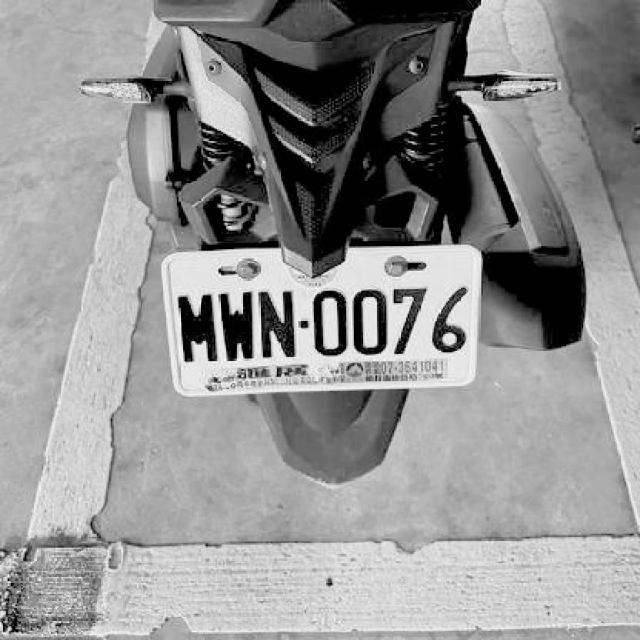-: (298, 316, 311, 326)
0: (311, 284, 349, 358), (349, 284, 385, 358)
6: (431, 280, 471, 354)
7: (389, 283, 426, 352)
M: (177, 290, 220, 364)
N: (257, 286, 300, 357)
W: (218, 290, 258, 362)
